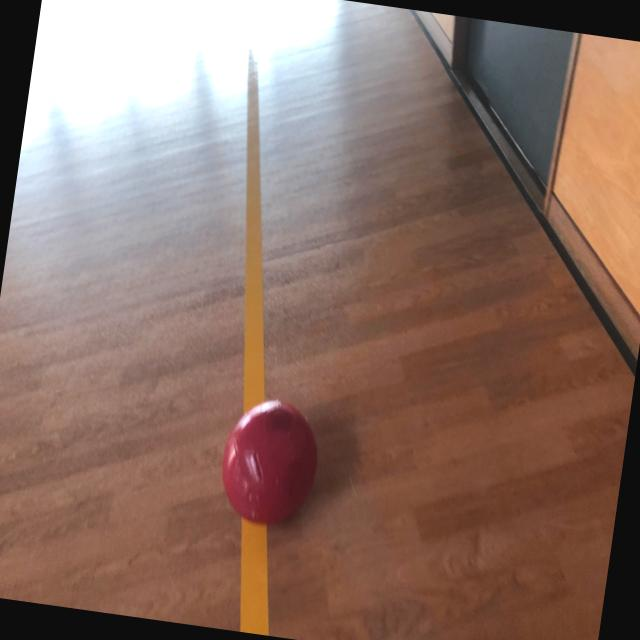red_ball: (216, 394, 324, 534)
